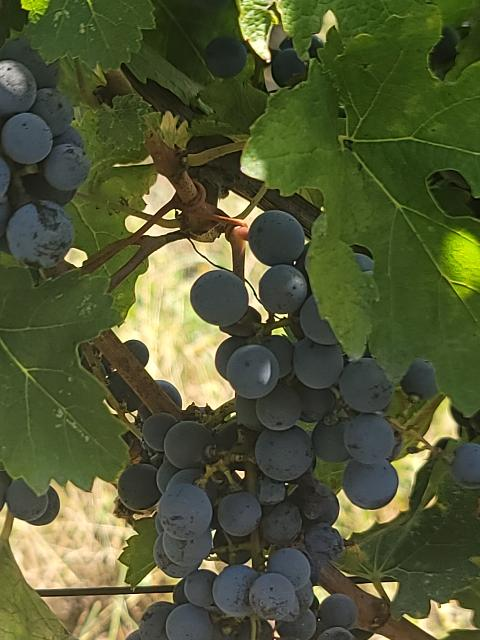grapes: (191, 210, 400, 509), (119, 412, 358, 640)
